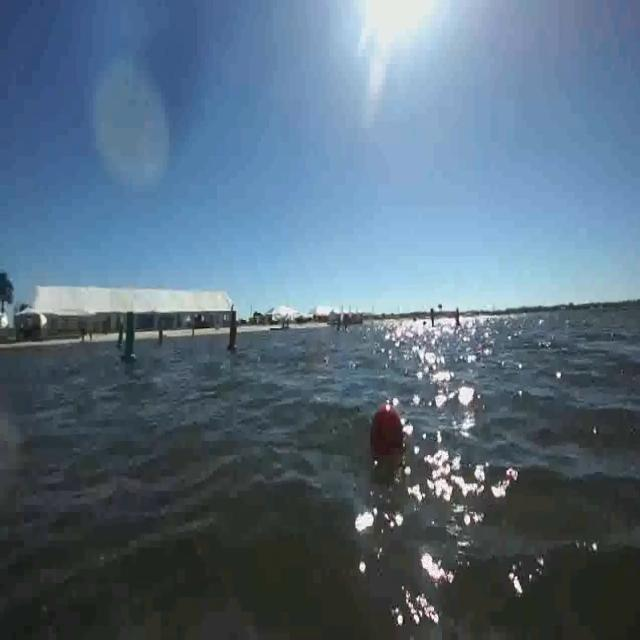green-column-buoy: (122, 300, 141, 366)
red-buoy: (370, 401, 406, 467)
red-column-buoy: (226, 310, 243, 352)
